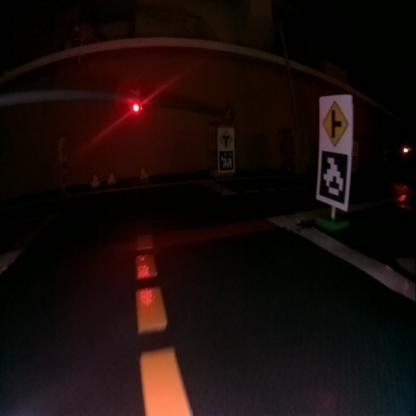Duckie: (90, 174, 100, 187), (138, 166, 148, 178), (108, 171, 115, 183)
Intersection sign: (320, 100, 346, 145), (218, 130, 231, 147)
QR code: (318, 150, 348, 204), (218, 150, 232, 171)
Traffic light: (130, 89, 142, 112)
